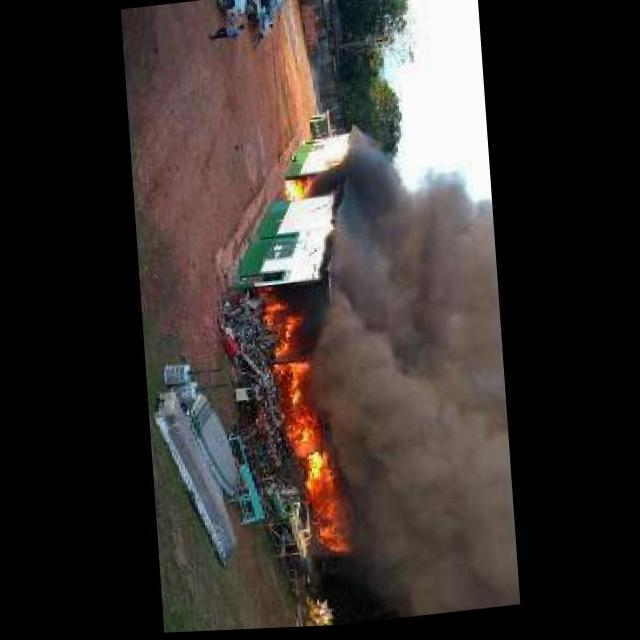helmet: (292, 454, 358, 562), (268, 359, 324, 454), (256, 286, 314, 361), (282, 175, 316, 204)
no_helmet: (308, 114, 520, 608)
